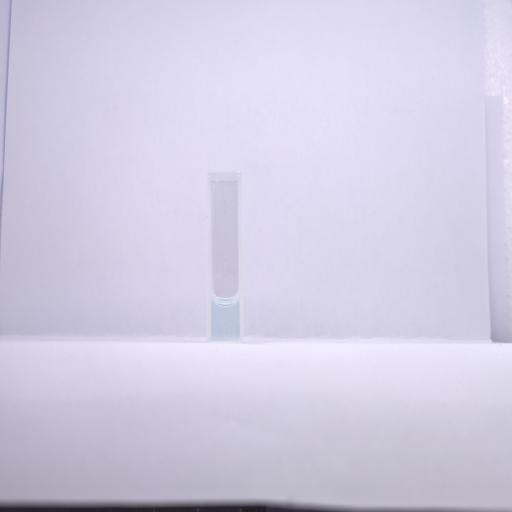cuvette: (204, 168, 246, 347)
liquid: (210, 296, 240, 342)
